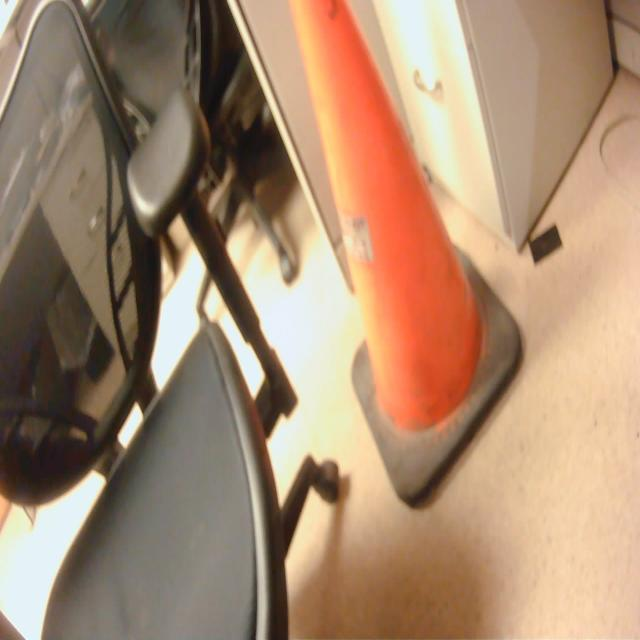traffic cone: (285, 1, 537, 522)
